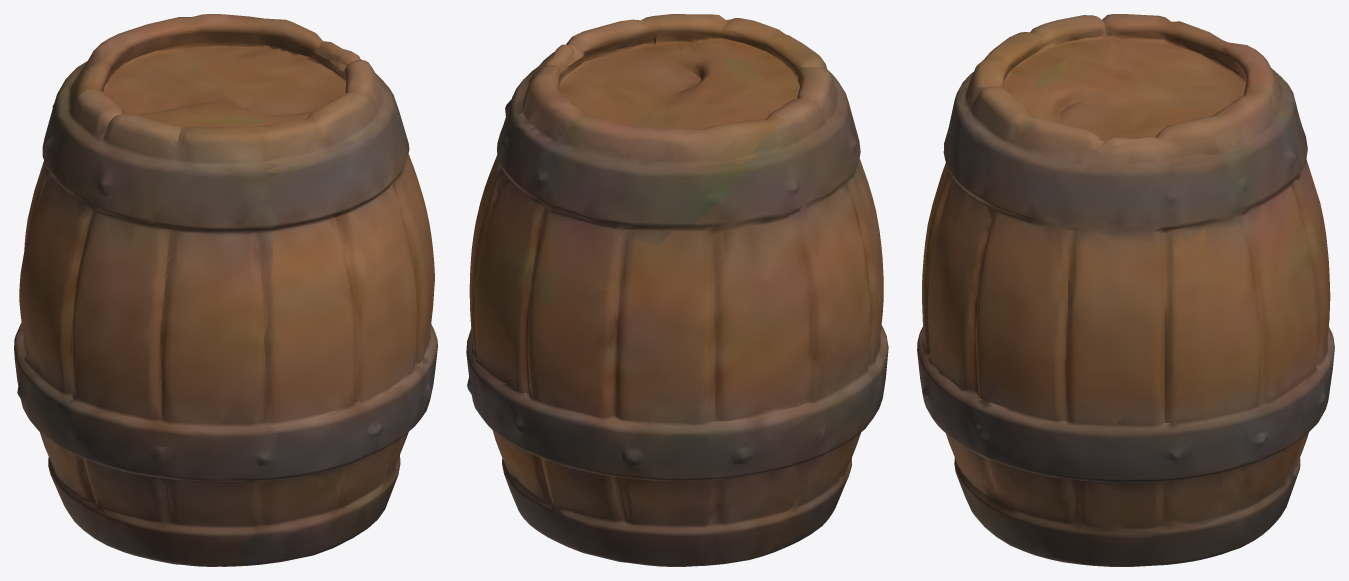
Rendered from barril.glb.
3 renders of one model, left to right at view 1: azimuth 30°, elevation 25°; view 2: azimuth 150°, elevation 25°; view 3: azimuth 270°, elevation 25°, orthographic.
Visible parts, largest first — view 1: barril_malla; view 2: barril_malla; view 3: barril_malla.
Boxes of the visible parts, bbox=[...] form: barril_malla: bbox=[14, 14, 437, 566]; barril_malla: bbox=[466, 14, 888, 566]; barril_malla: bbox=[917, 14, 1334, 566].
Bounding box in the file's own units: 0.1079 × 0.121 × 0.1067.
Materials: 1 (1 with a texture image).
